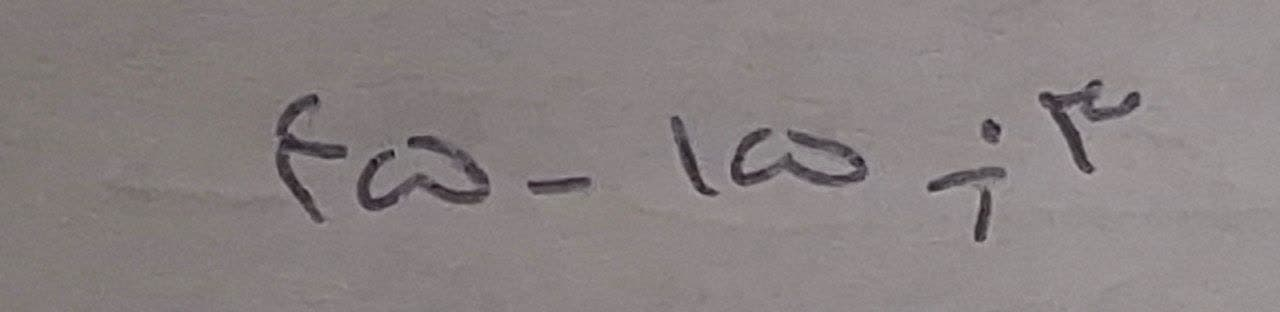character: (356, 132, 492, 215), (1033, 79, 1141, 179), (922, 119, 1009, 243), (273, 91, 348, 228), (727, 123, 867, 190), (669, 113, 720, 201), (522, 174, 593, 201)
